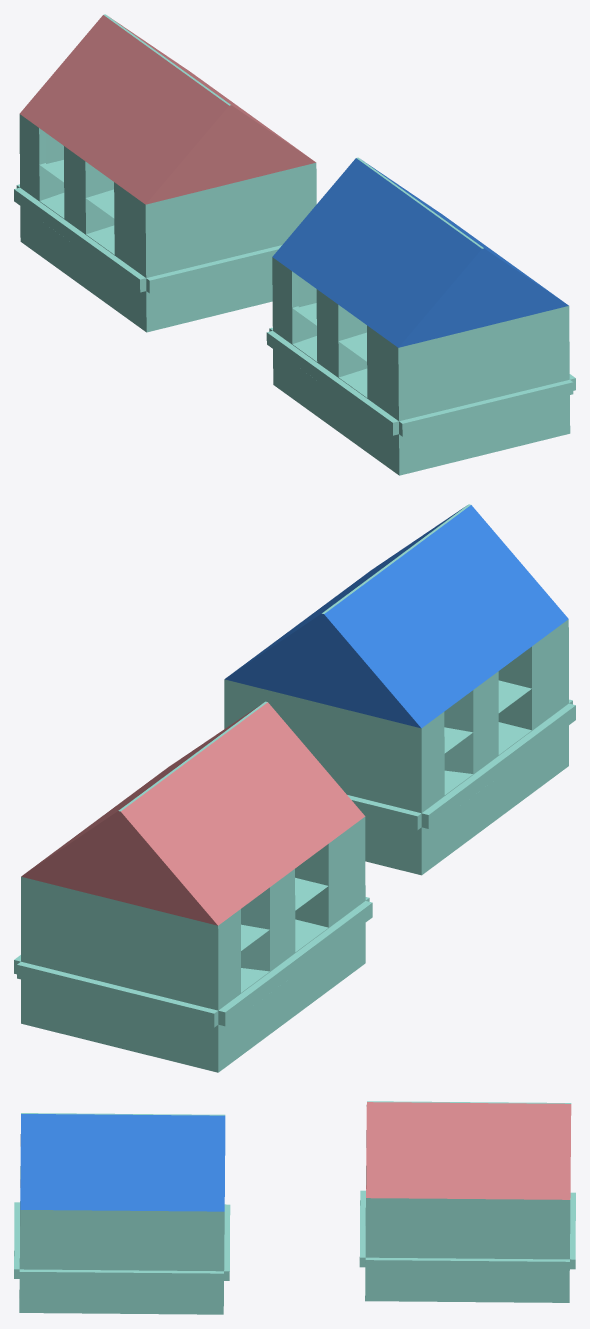
File: Aufgabe2.glb
3 renders of one model, top to bottom at view 1: azimuth 30°, elevation 25°; view 2: azimuth 150°, elevation 25°; view 3: azimuth 270°, elevation 25°, orthographic. The views are drawn at different scales.
Visible parts, largest first — view 1: Cube.002; view 2: Cube.002; view 3: Cube.002.
Boxes of the visible parts, <box> form: Cube.002: <box>14,14,575,475</box>; Cube.002: <box>14,504,575,1072</box>; Cube.002: <box>14,1101,575,1314</box>.
Size of the model in its own units: 9.1 by 8.31 by 24.75.
